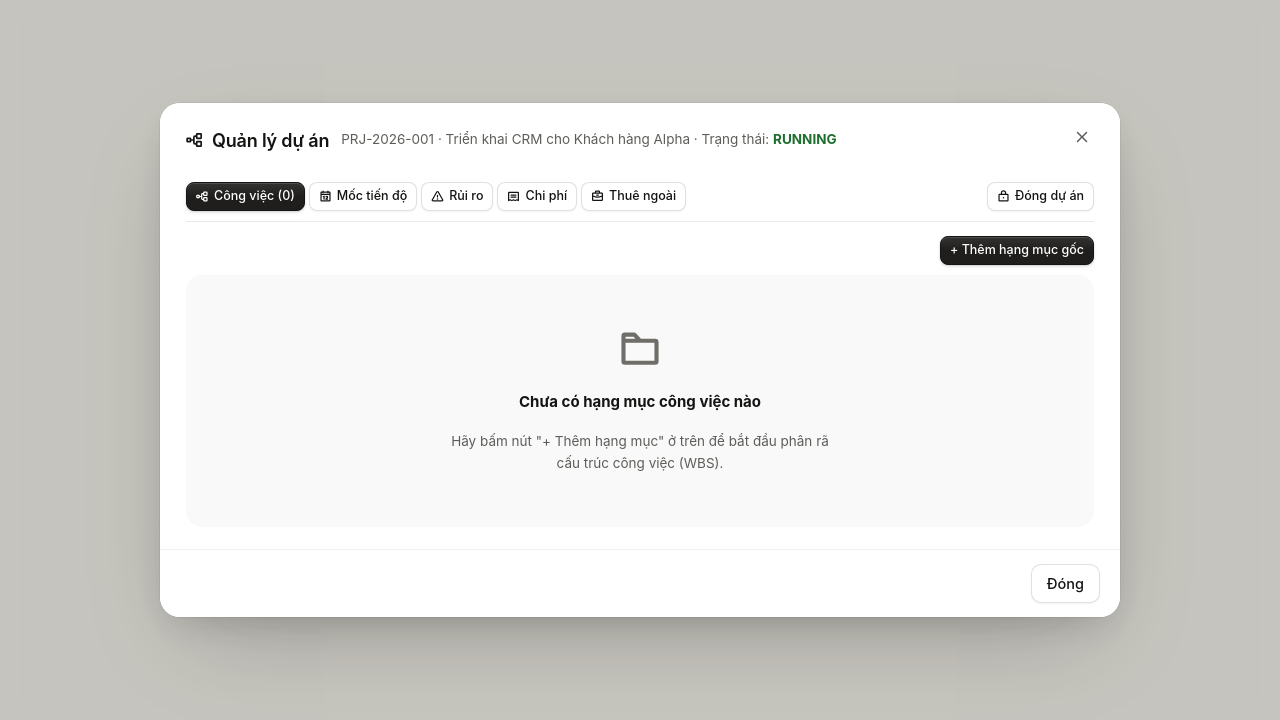
Test case: ProjectWbsModal Component — Đóng dự án (NCL-05-CN-006) › TC-02: shows the pending-tasks message returned by the backend when closing is blocked
The width and height of the screenshot is (1280, 720).
Click the button with test id "modal-btn-close-project".
click(1040, 197)  # box [987,182,1094,211]
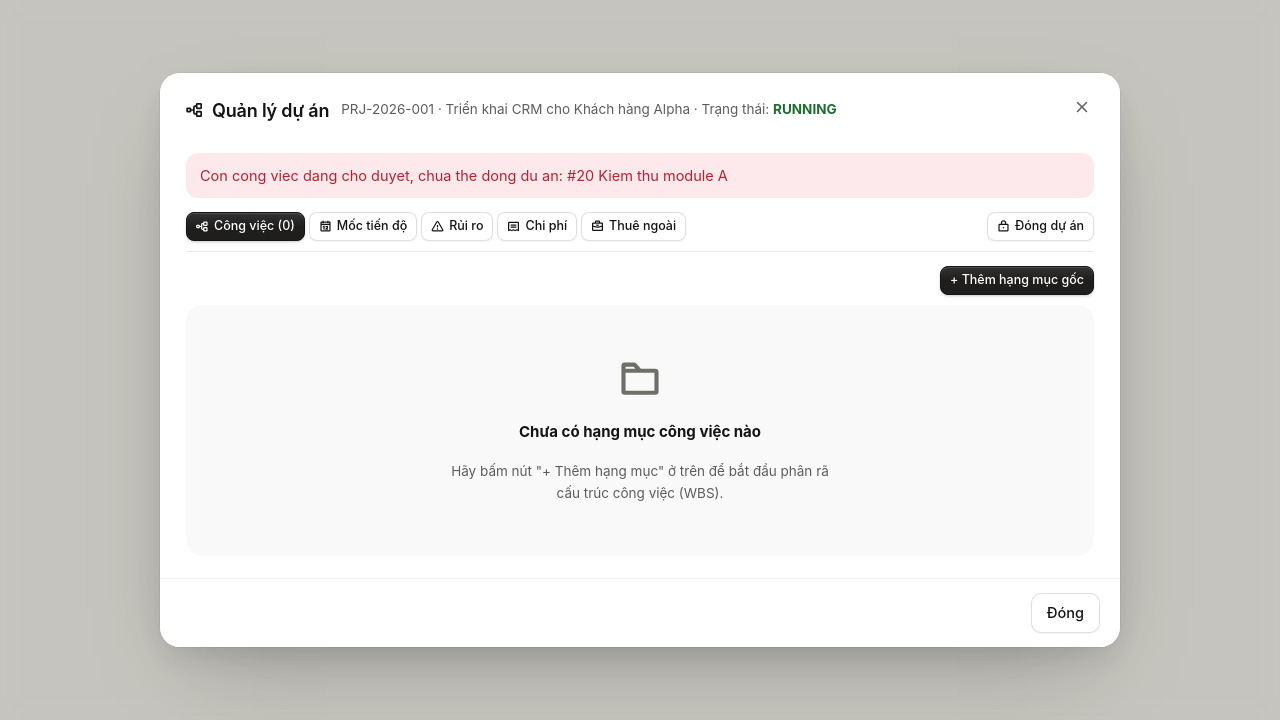
Check: the button with test id "modal-btn-close-project" is shown, box [987,212,1094,241]
Check: the text "Con cong viec dang cho duyet, chua the dong du an: #20 Kiem thu module A" is shown, box [186,152,1094,198]
